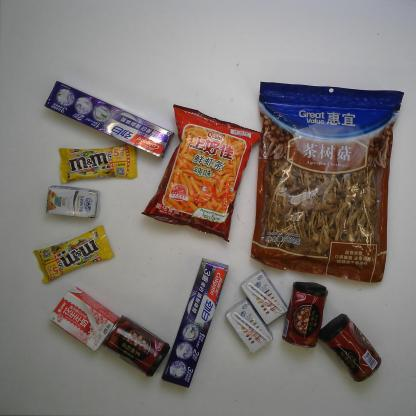Canned Food: (318, 313, 382, 383), (102, 314, 171, 378), (282, 280, 330, 349)
Chocolate: (32, 224, 115, 284), (57, 143, 139, 184)
Dried Food: (249, 81, 405, 284)
Milk: (48, 286, 121, 352), (239, 268, 289, 326), (225, 297, 274, 355), (45, 185, 101, 219)
Personal Hygiene: (43, 80, 176, 160), (160, 257, 229, 390)
Puffed Food: (139, 103, 262, 243)
